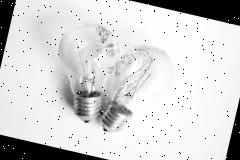lightbulb: (40, 15, 182, 144), (42, 15, 124, 126), (95, 36, 179, 144)
